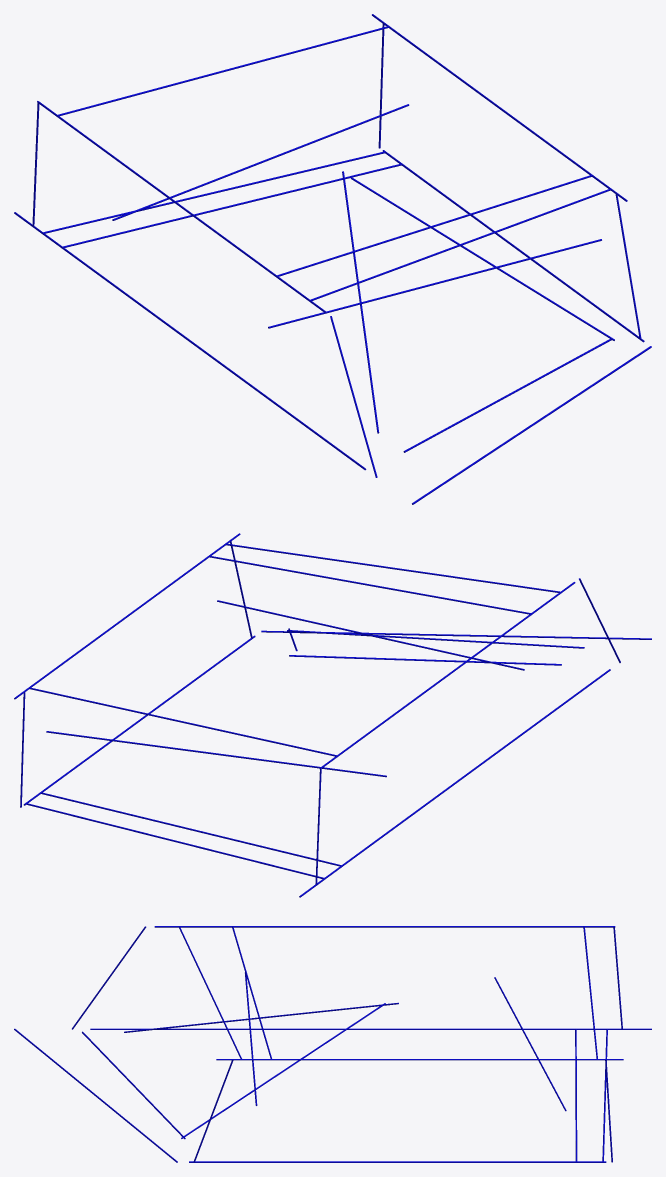
Rendered from corrected_3d_strokes.glb.
3 views of the same model, one above another, from view 1: azimuth 30°, elevation 25°; view 2: azimuth 150°, elevation 25°; view 3: azimuth 270°, elevation 25° (orthographic). The views are drawn at different scales.
Visible parts, largest first — view 1: world; view 2: world; view 3: world.
Boxes of the visible parts, x1,y1,x2,y2 form: world: [14, 14, 651, 504]; world: [14, 533, 651, 897]; world: [14, 926, 651, 1162].
Size of the model in its own units: 7.79 by 2.83 by 15.73.
